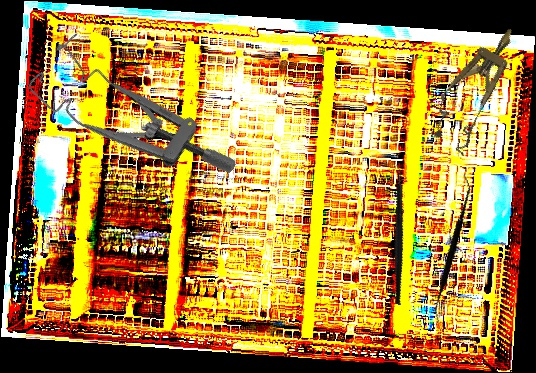Chopper: (344, 160, 448, 306)
Spatula Surgical: (396, 173, 507, 324)
Speculum: (22, 17, 240, 229), (420, 16, 533, 157)
